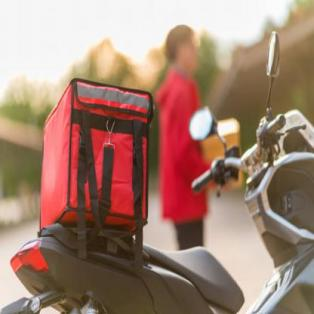Motocicleta: (11, 83, 313, 313)
